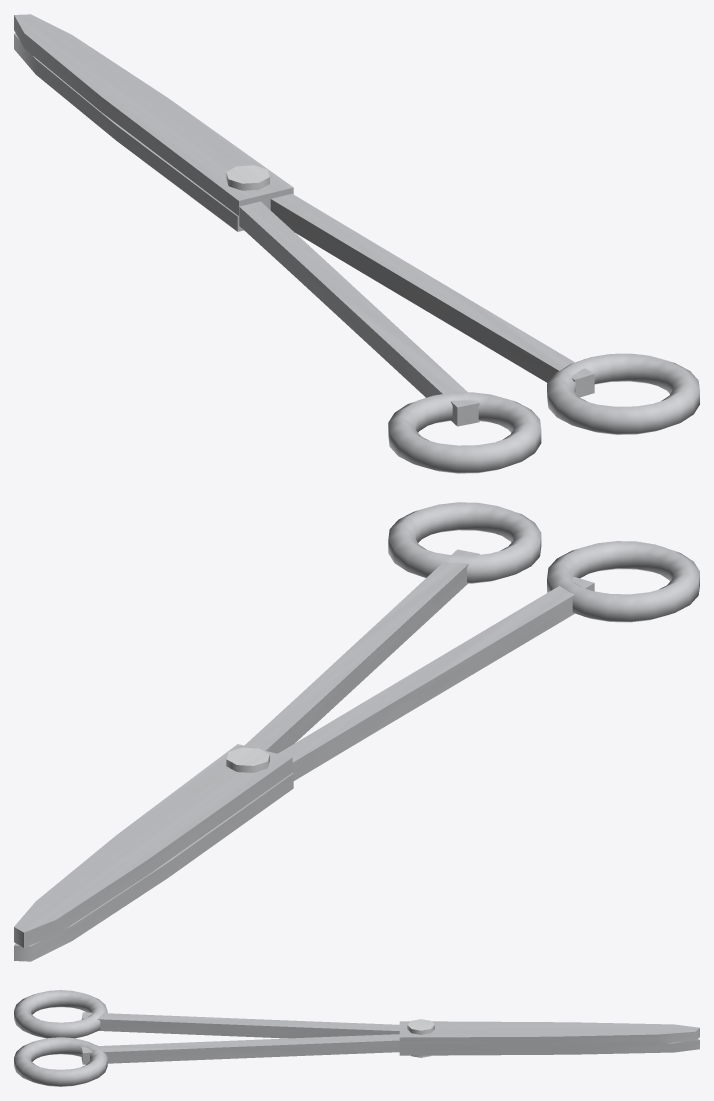
File: mayo_scissors.glb
3 views of the same model, one above another, from view 1: azimuth 30°, elevation 25°; view 2: azimuth 150°, elevation 25°; view 3: azimuth 270°, elevation 25° (orthographic). The views are drawn at different scales.
Visible parts, largest first — view 1: s2_mayo_scissors; view 2: s2_mayo_scissors; view 3: s2_mayo_scissors.
Boxes of the visible parts, x1,y1,x2,y2 form: s2_mayo_scissors: (14, 14, 699, 473); s2_mayo_scissors: (14, 502, 699, 961); s2_mayo_scissors: (14, 990, 699, 1086).
Size of the model in its own units: 0.0478 by 0.007 by 0.1599.
1 material, 1 textured.
